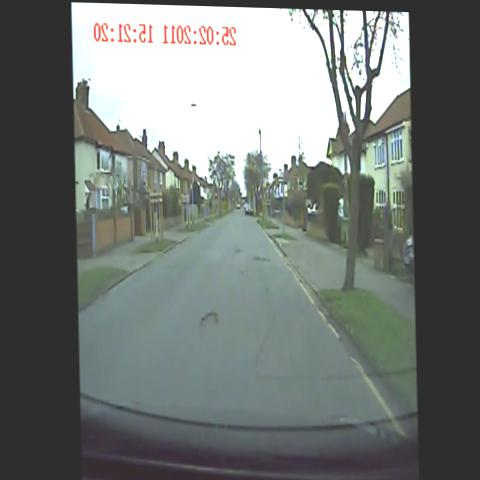pothole: (193, 302, 223, 340), (223, 236, 245, 263), (247, 244, 270, 268)
